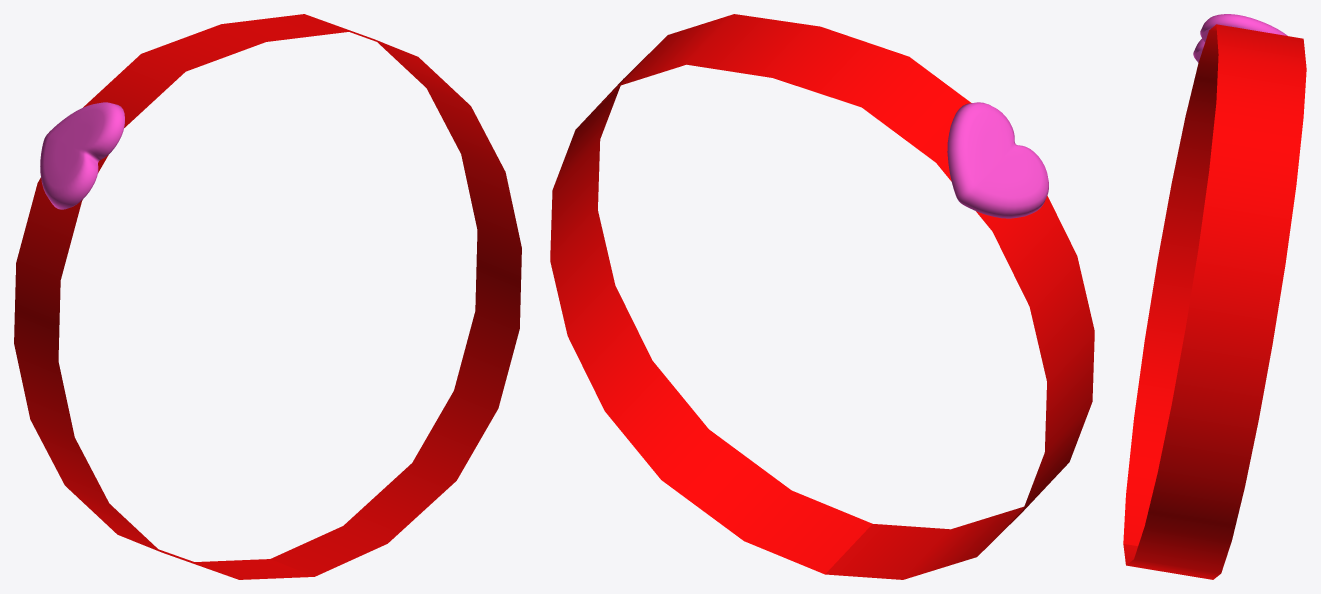
The model's file is Simple Choker.fbx.
3 views of the same model, side by side, from view 1: azimuth 30°, elevation 25°; view 2: azimuth 150°, elevation 25°; view 3: azimuth 270°, elevation 25° (orthographic). The views are drawn at different scales.
Parts seen in each view (by area): view 1: AerialElementFixingDevices_AerialElementFixingDevices_0; view 2: AerialElementFixingDevices_AerialElementFixingDevices_0; view 3: AerialElementFixingDevices_AerialElementFixingDevices_0.
Part boxes in pixels (x1,y1,x2,y2): AerialElementFixingDevices_AerialElementFixingDevices_0: (14, 14, 521, 579); AerialElementFixingDevices_AerialElementFixingDevices_0: (550, 14, 1094, 579); AerialElementFixingDevices_AerialElementFixingDevices_0: (1123, 14, 1306, 579).
Bounding box in the file's own units: 7.02 × 7.44 × 2.45.
1 material, 1 textured.
